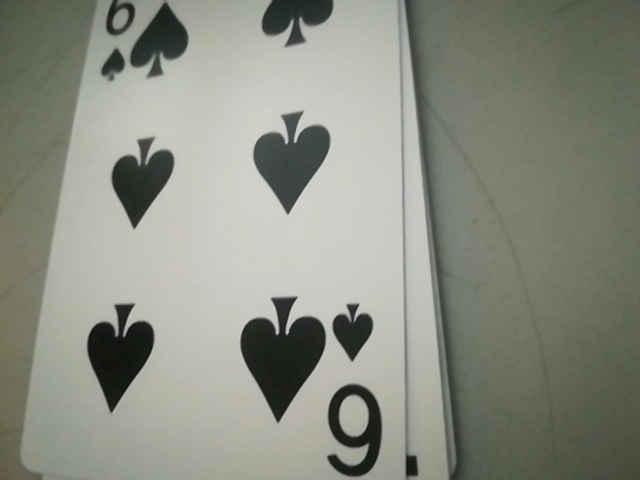ht 6: (320, 295, 391, 479)
